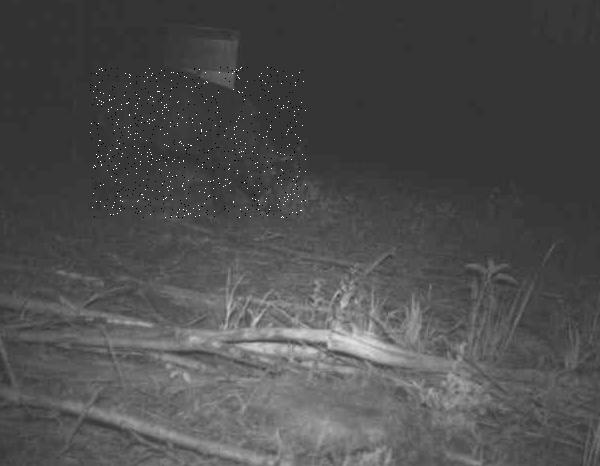Hog: (90, 68, 306, 219)
